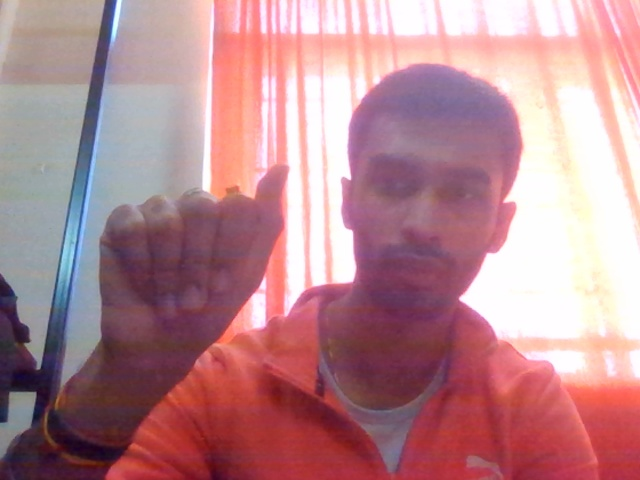A: (80, 133, 301, 399)
